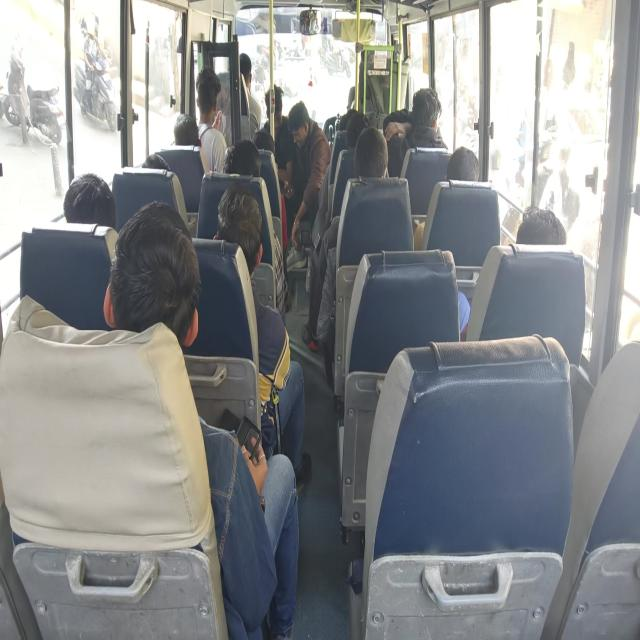person: (109, 225, 189, 337), (59, 165, 111, 245), (212, 188, 258, 268), (516, 200, 566, 254), (227, 136, 265, 184), (356, 131, 386, 186), (412, 87, 440, 138), (142, 144, 176, 182), (196, 72, 221, 122), (450, 152, 480, 193), (343, 118, 371, 159), (172, 104, 200, 145), (290, 100, 311, 150), (246, 124, 272, 157), (266, 92, 284, 133), (363, 37, 378, 70), (238, 54, 252, 85)
